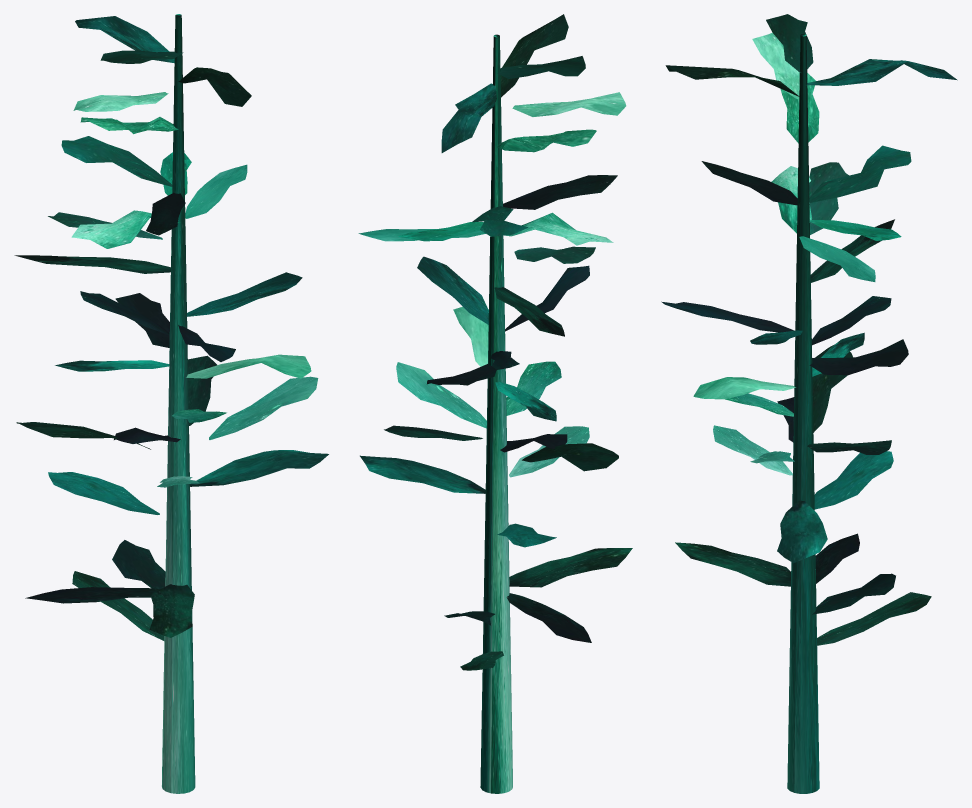
File: Seaweed_3.fbx
3 views of the same model, side by side, from view 1: azimuth 30°, elevation 25°; view 2: azimuth 150°, elevation 25°; view 3: azimuth 270°, elevation 25° (orthographic). The views are drawn at different scales.
Parts seen in each view (by area): view 1: Seaweed_3; view 2: Seaweed_3; view 3: Seaweed_3.
Part boxes in pixels (bbox=[...]): Seaweed_3: bbox=[14, 14, 328, 793]; Seaweed_3: bbox=[358, 14, 632, 793]; Seaweed_3: bbox=[661, 14, 957, 793].
Size of the model in its own units: 68.9 by 175 by 62.67.
Materials: 1 (1 with a texture image).
